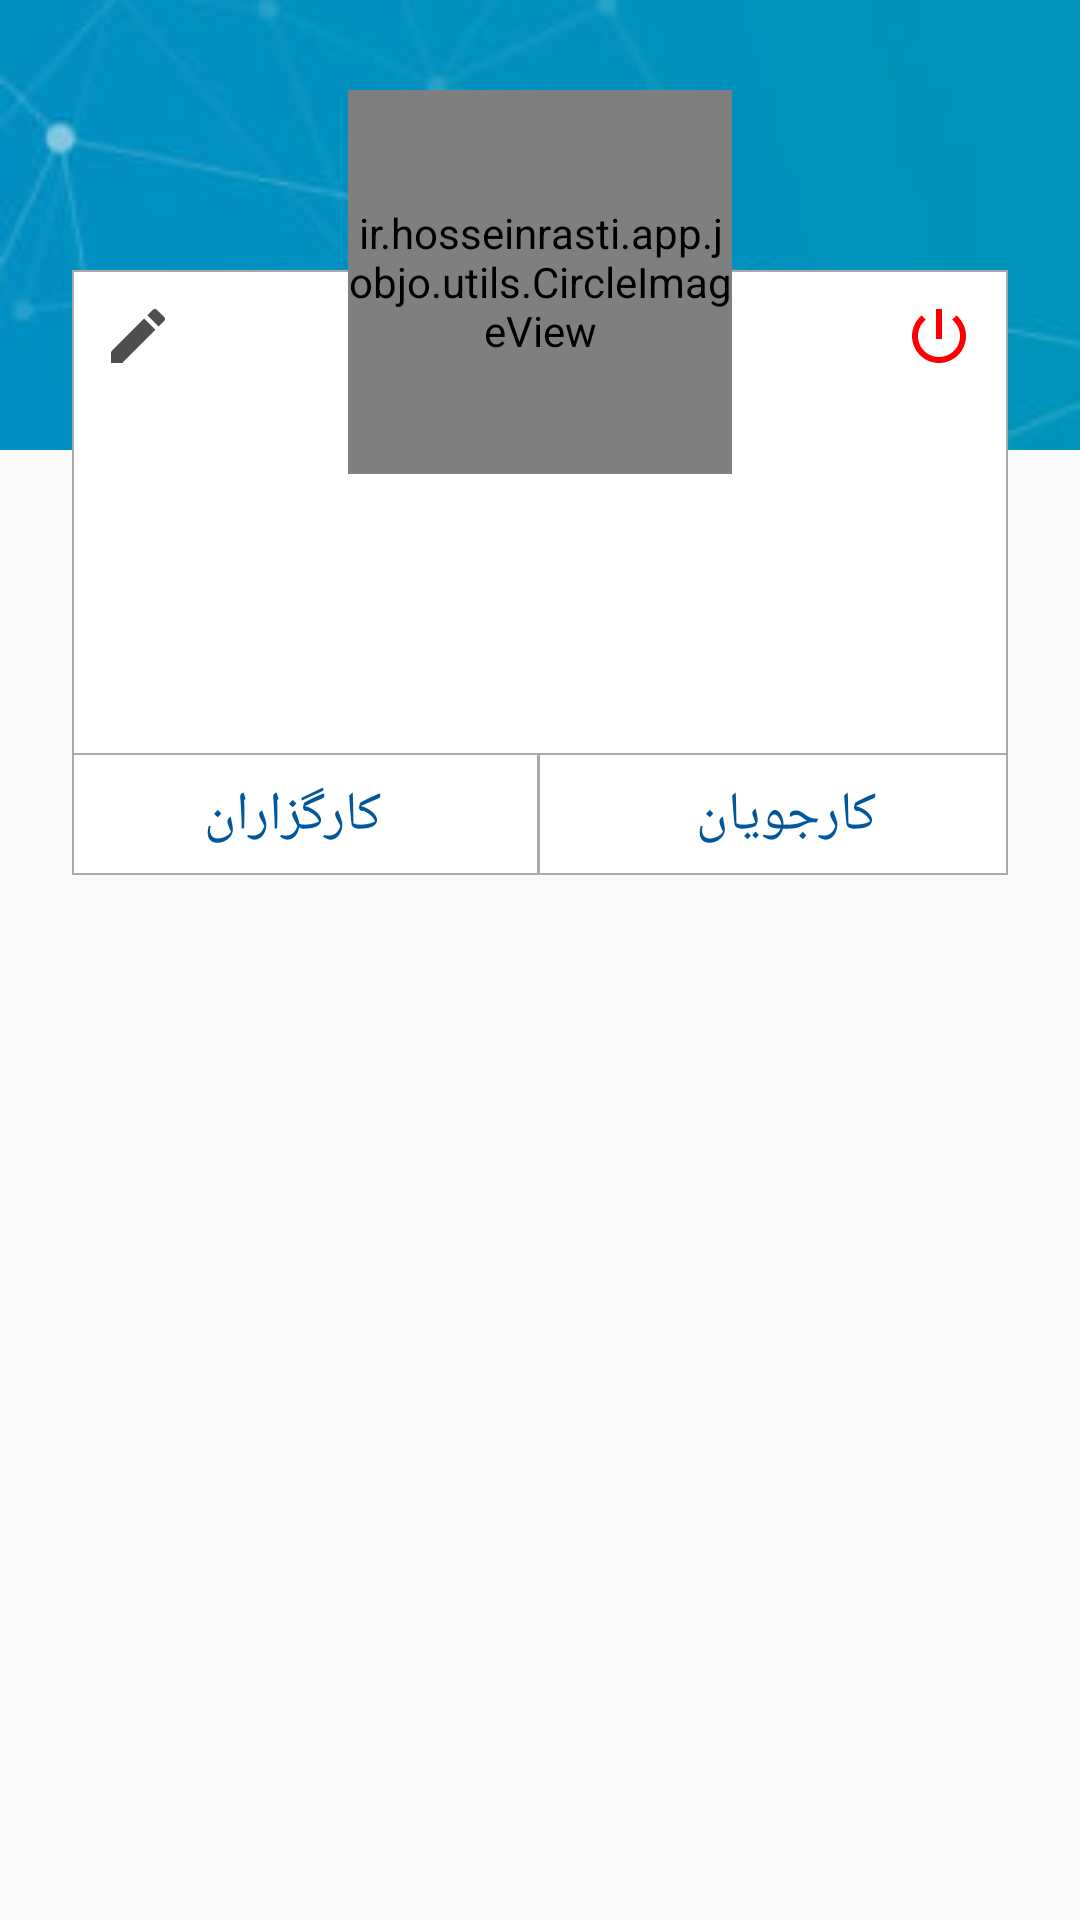

Icon bounding boxes for this 1080w x 1920h phone screenshot, format (x1, y1, x2, y2):
edit: (111, 309, 165, 363)
